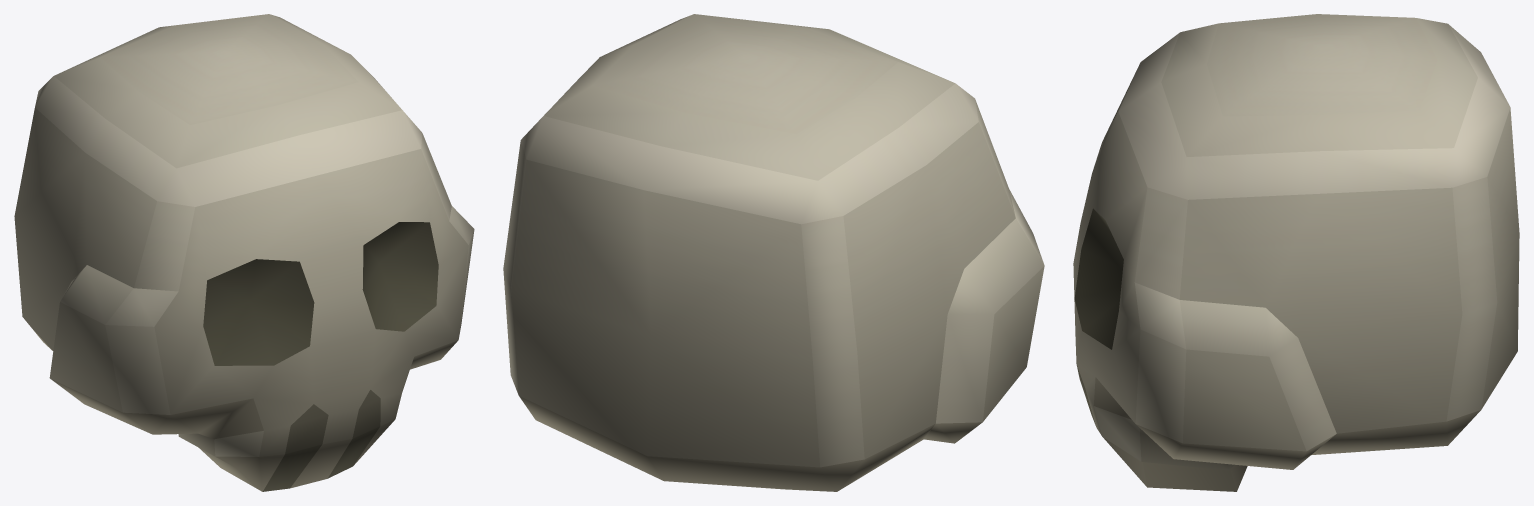
The model's file is orc_skull.fbx.
3 renders of one model, left to right at view 1: azimuth 30°, elevation 25°; view 2: azimuth 150°, elevation 25°; view 3: azimuth 270°, elevation 25°, orthographic. The views are drawn at different scales.
Visible parts, largest first — view 1: orc_skull; view 2: orc_skull; view 3: orc_skull.
Part boxes in pixels (x1,y1,x2,y2): orc_skull: (14,14,474,491); orc_skull: (503,14,1044,491); orc_skull: (1073,14,1519,491).
Size of the model in its own units: 70.9 by 68.31 by 64.99.
